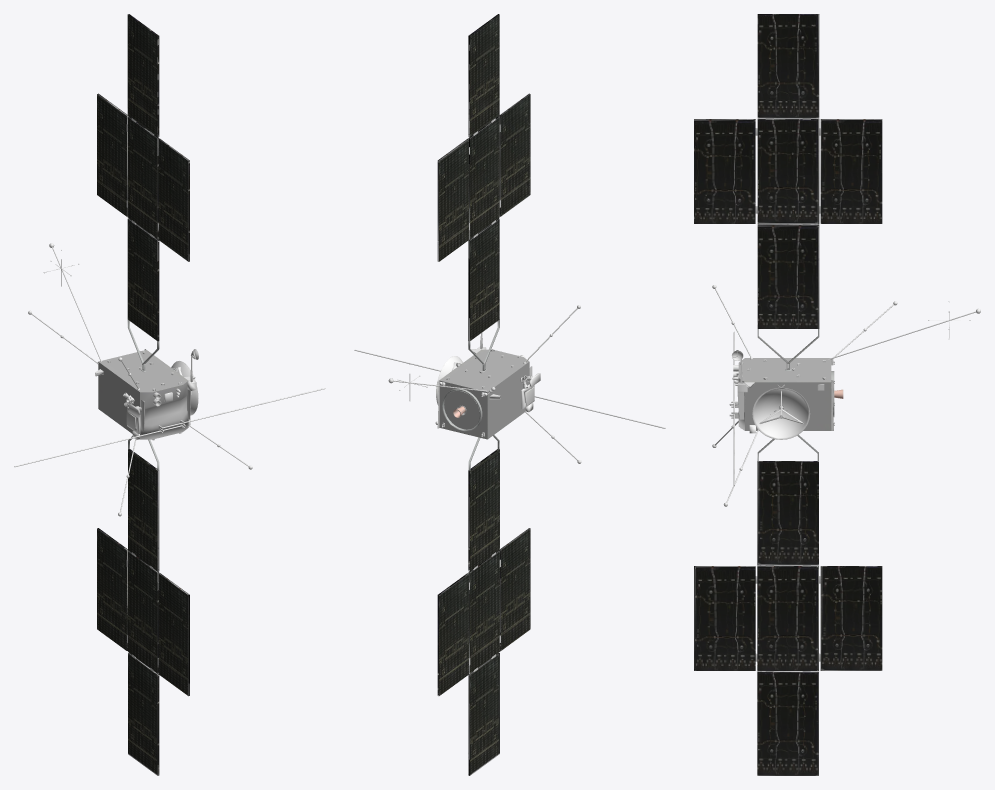
The model's file is juice.glb.
3 renders of one model, left to right at view 1: azimuth 30°, elevation 25°; view 2: azimuth 150°, elevation 25°; view 3: azimuth 270°, elevation 25°, orthographic. The views are drawn at different scales.
Visible parts, largest first — view 1: mesh01; view 2: mesh01; view 3: mesh01.
Boxes of the visible parts, box(x1,y1,x2,y2) form: mesh01: box(14, 14, 325, 775); mesh01: box(354, 14, 665, 775); mesh01: box(694, 14, 980, 775).
Bounding box in the file's own units: 797 × 1813 × 619.
Materials: 1 (1 with a texture image).
